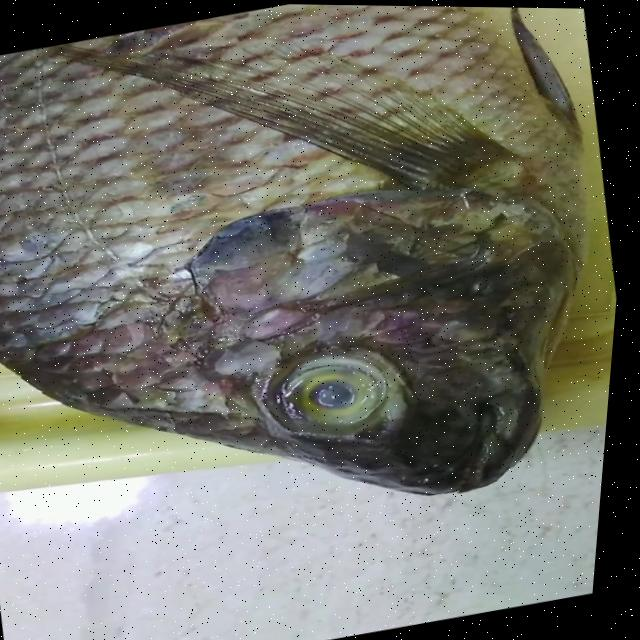Non-Fresh: (0, 0, 593, 392), (273, 332, 420, 446)
